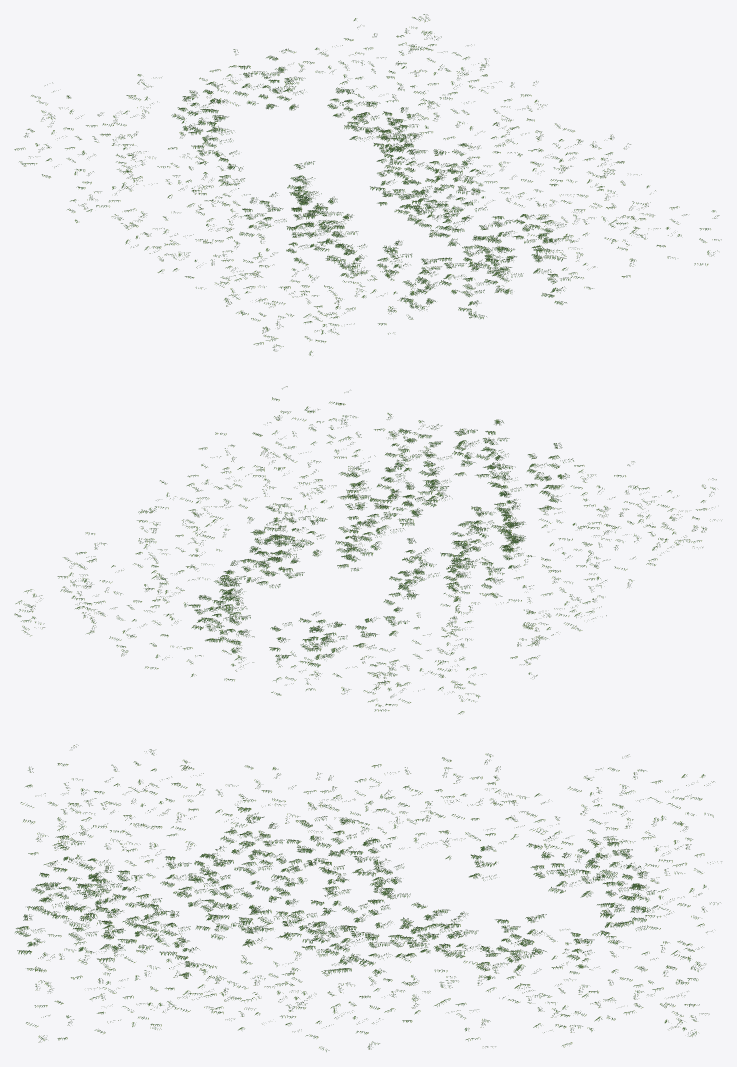
The model's file is bamboo_leaves_4.glb.
The picture shows the model from 3 angles, top to bottom: view 1: azimuth 30°, elevation 25°; view 2: azimuth 150°, elevation 25°; view 3: azimuth 270°, elevation 25°; orthographic projection. The views are drawn at different scales.
Parts seen in each view (by area): view 1: bamboo_leaves_40, bamboo_leaves_41, bamboo_leaves_42; view 2: bamboo_leaves_40, bamboo_leaves_41, bamboo_leaves_42; view 3: bamboo_leaves_40, bamboo_leaves_41, bamboo_leaves_42.
Part boxes in pixels (x1,y1,x2,y2): bamboo_leaves_40: [14, 14, 547, 253]; bamboo_leaves_41: [152, 123, 641, 315]; bamboo_leaves_42: [236, 185, 721, 355]; bamboo_leaves_40: [14, 499, 593, 714]; bamboo_leaves_41: [137, 432, 680, 617]; bamboo_leaves_42: [252, 386, 721, 548]; bamboo_leaves_40: [355, 753, 721, 1047]; bamboo_leaves_41: [143, 749, 392, 1051]; bamboo_leaves_42: [15, 744, 182, 1042].
Bounding box in the file's own units: 81.93 × 10.55 × 94.83.
Materials: 1 (1 with a texture image).
